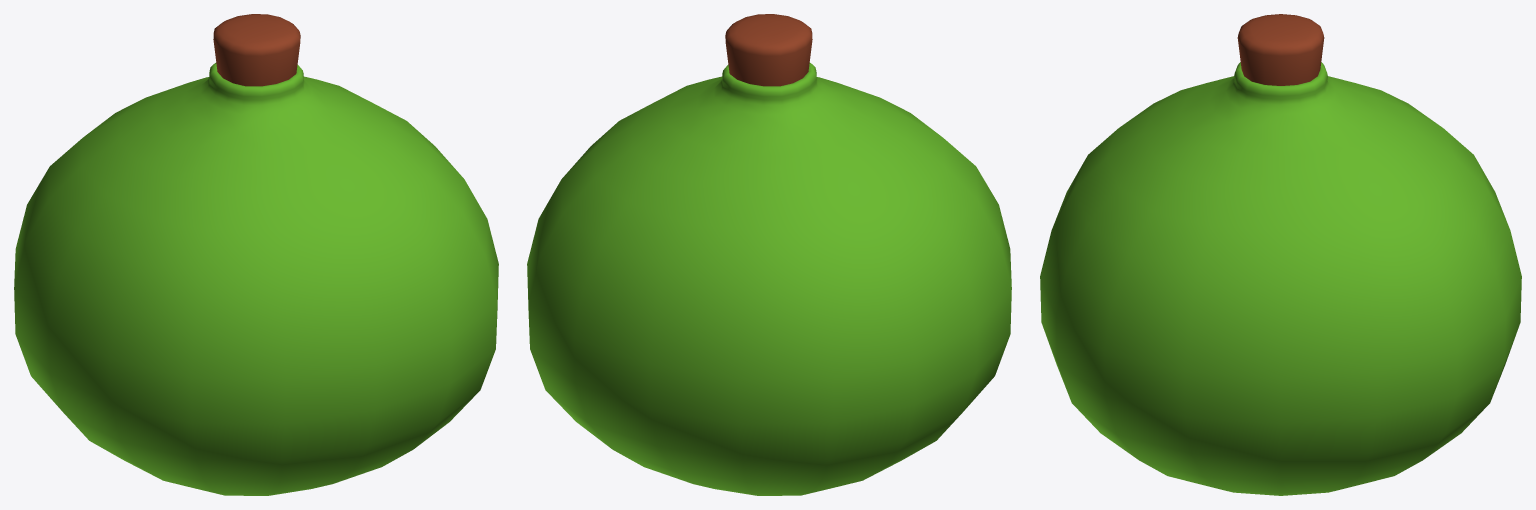
The model's file is poison_bomb.glb.
3 views of the same model, side by side, from view 1: azimuth 30°, elevation 25°; view 2: azimuth 150°, elevation 25°; view 3: azimuth 270°, elevation 25° (orthographic).
Visible parts, largest first — view 1: Potion9_Filled; view 2: Potion9_Filled; view 3: Potion9_Filled.
Boxes of the visible parts, x1=… form: Potion9_Filled: x1=14, y1=14, x2=498, y2=495; Potion9_Filled: x1=527, y1=14, x2=1011, y2=495; Potion9_Filled: x1=1040, y1=14, x2=1521, y2=495.
Bounding box in the file's own units: 1.26 × 1.29 × 1.26.
1 material, 1 textured.
